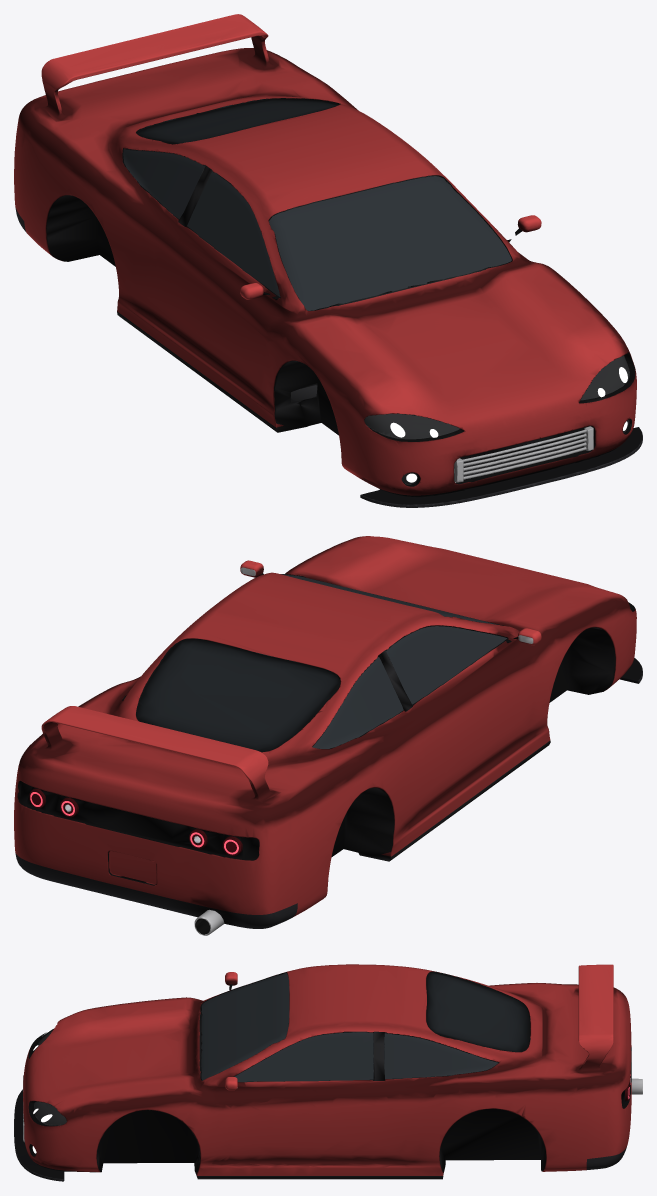
Rendered from ronin.m.glb.
3 views of the same model, one above another, from view 1: azimuth 30°, elevation 25°; view 2: azimuth 150°, elevation 25°; view 3: azimuth 270°, elevation 25° (orthographic). The views are drawn at different scales.
Visible parts, largest first — view 1: paint_lodm, window_lodm, trim_lodm, glass_lodm, carbon_lodm, head_lodm, chrome_lodm, grille_lodm; view 2: paint_lodm, glass_lodm, trim_lodm, window_lodm, carbon_lodm, tail_lodm, chrome_lodm; view 3: paint_lodm, window_lodm, trim_lodm, glass_lodm, carbon_lodm, head_lodm.
Part boxes in pixels (<box>): paint_lodm: <box>14,14,636,495</box>; window_lodm: <box>123,149,511,310</box>; trim_lodm: <box>46,148,635,497</box>; glass_lodm: <box>136,98,340,144</box>; carbon_lodm: <box>15,208,642,507</box>; head_lodm: <box>364,355,629,484</box>; chrome_lodm: <box>454,426,593,482</box>; grille_lodm: <box>460,426,587,476</box>; paint_lodm: <box>14,536,636,916</box>; glass_lodm: <box>136,638,340,752</box>; trim_lodm: <box>17,573,635,885</box>; window_lodm: <box>280,574,506,748</box>; carbon_lodm: <box>15,658,642,928</box>; tail_lodm: <box>29,788,242,855</box>; chrome_lodm: <box>194,567,533,935</box>; paint_lodm: <box>23,964,631,1175</box>; window_lodm: <box>201,973,498,1081</box>; trim_lodm: <box>28,972,631,1179</box>; glass_lodm: <box>426,971,530,1052</box>; carbon_lodm: <box>14,1055,626,1181</box>; head_lodm: <box>34,1030,66,1154</box>.
Size of what is drawn, in the model's own units: 1.98 by 1.12 by 4.69.
